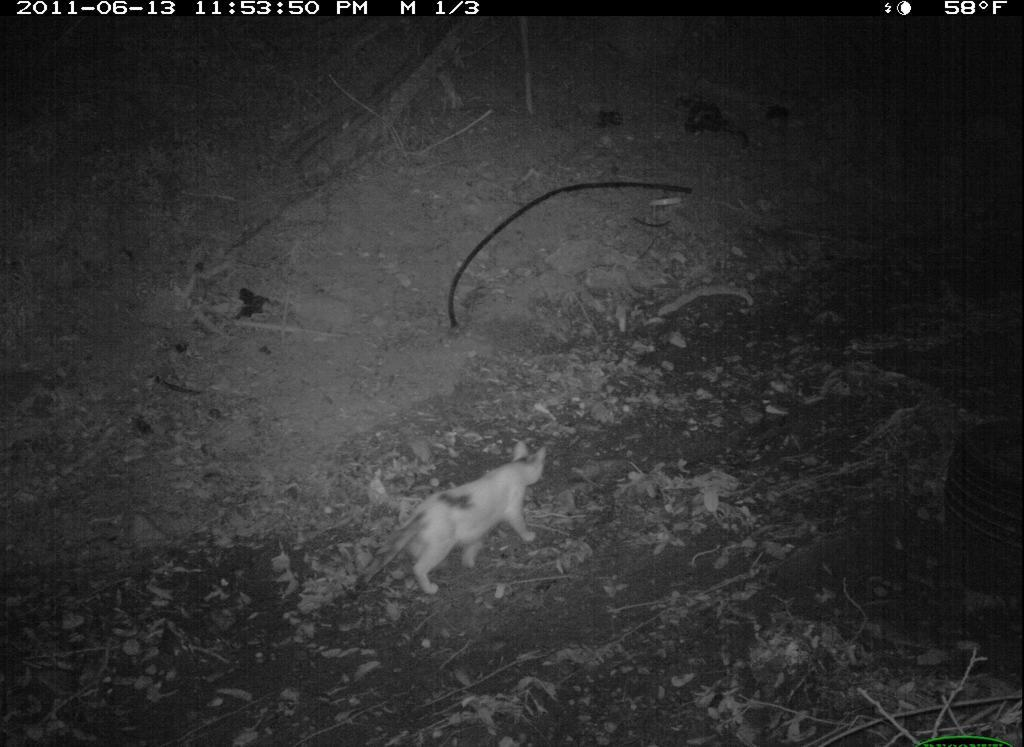cat: (361, 434, 582, 602)
